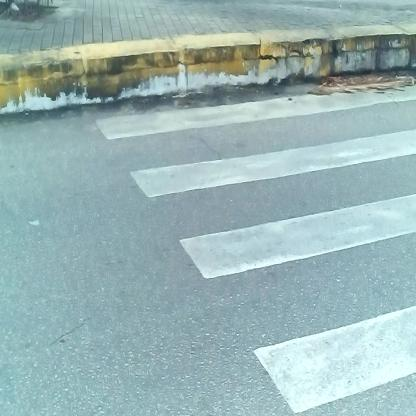crosswalk: (94, 110, 416, 404)
sidewalk: (5, 13, 416, 97)
